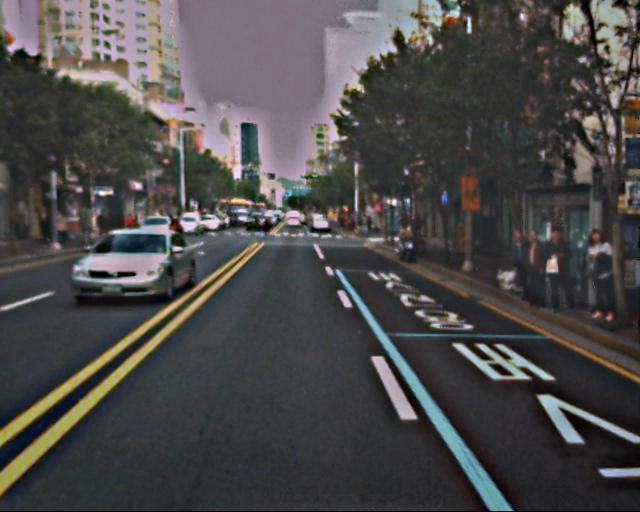person: (576, 230, 619, 321), (539, 227, 575, 313), (503, 228, 535, 306), (520, 229, 550, 304)
